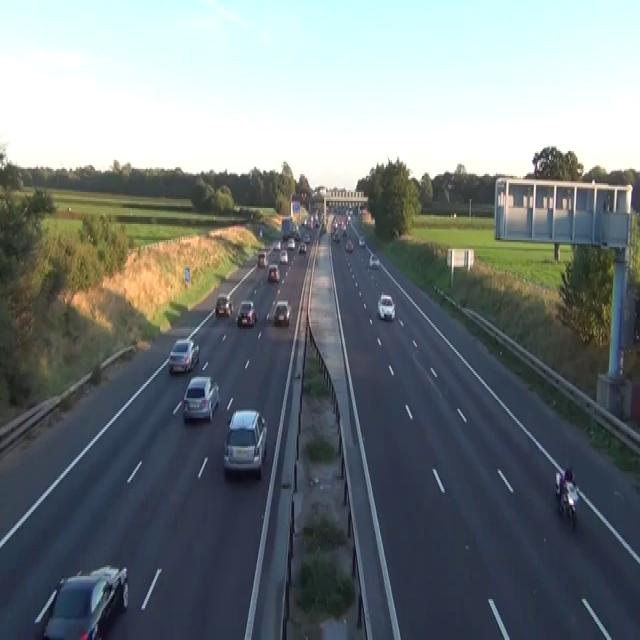Car: (33, 564, 129, 638), (223, 409, 267, 476), (89, 564, 129, 610), (182, 375, 219, 421), (555, 466, 579, 530), (168, 338, 199, 373), (236, 301, 256, 327), (377, 293, 395, 320), (273, 299, 291, 325), (215, 294, 233, 316), (267, 263, 279, 281), (369, 252, 379, 268), (257, 250, 267, 266), (279, 249, 288, 263), (345, 238, 353, 251), (287, 236, 295, 249), (273, 240, 281, 251), (298, 242, 306, 252), (303, 231, 310, 242), (358, 235, 365, 245), (332, 233, 339, 242), (314, 218, 320, 228), (294, 231, 300, 240), (322, 224, 327, 233), (302, 217, 307, 226), (341, 228, 346, 235), (259, 228, 263, 236)
Truck: (281, 215, 294, 240)
